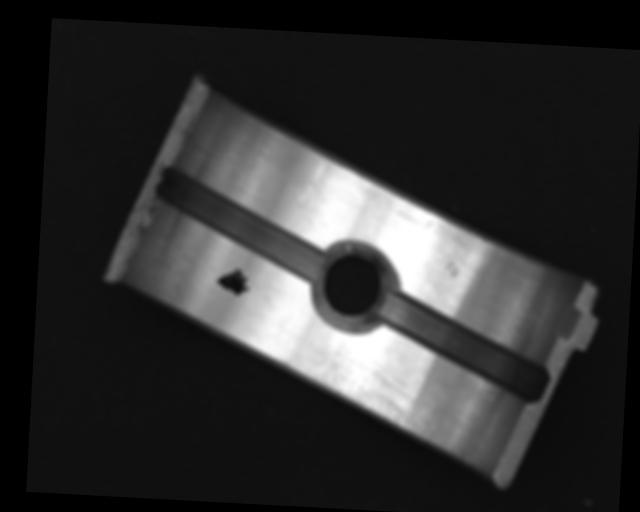blot: (214, 266, 252, 297)
bruise: (442, 259, 460, 279)
gap: (152, 167, 327, 281), (377, 295, 552, 403)
hole: (314, 241, 395, 335)
nick: (289, 160, 325, 214)
scratch: (290, 340, 436, 441)
